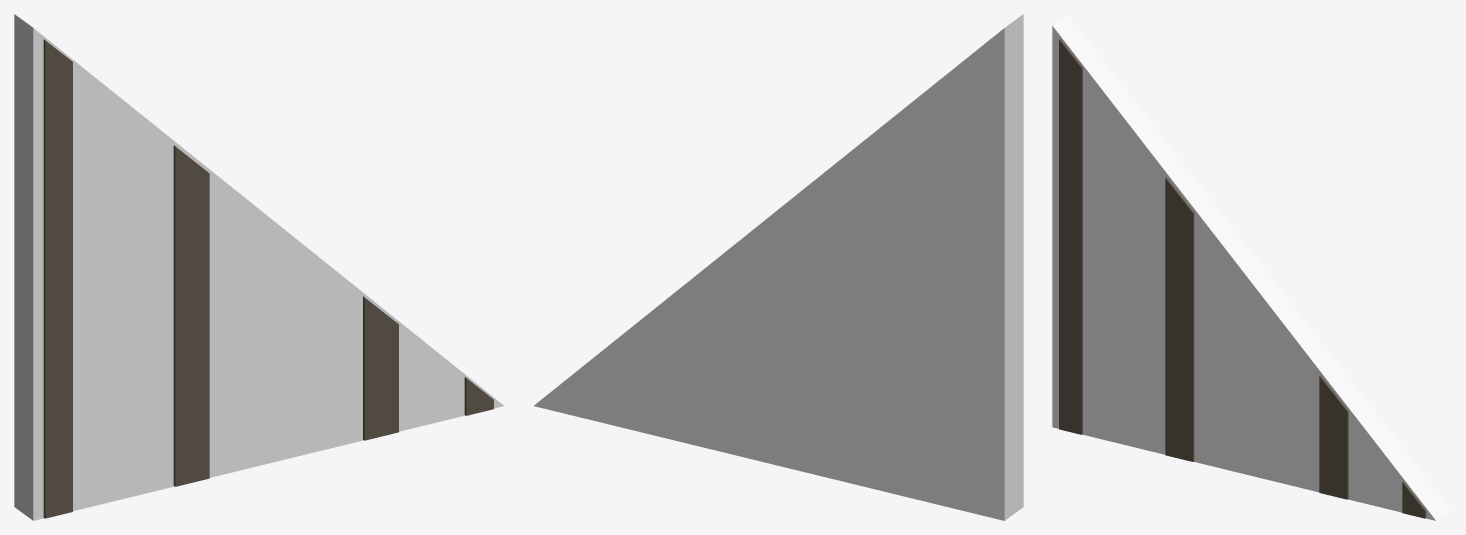
The model's file is _ROOF_trinagle_right_wood_1.glb.
3 views of the same model, side by side, from view 1: azimuth 30°, elevation 25°; view 2: azimuth 150°, elevation 25°; view 3: azimuth 330°, elevation 25° (orthographic). The views are drawn at different scales.
Visible parts, largest first — view 1: ROOF_trinagle_right_wood_1; view 2: ROOF_trinagle_right_wood_1; view 3: ROOF_trinagle_right_wood_1.
Part boxes in pixels (x1,y1,x2,y2): ROOF_trinagle_right_wood_1: (14, 14, 503, 520); ROOF_trinagle_right_wood_1: (534, 14, 1023, 520); ROOF_trinagle_right_wood_1: (1052, 14, 1451, 520).
Bounding box in the file's own units: 1 × 1 × 0.0761.
1 material, 1 textured.
